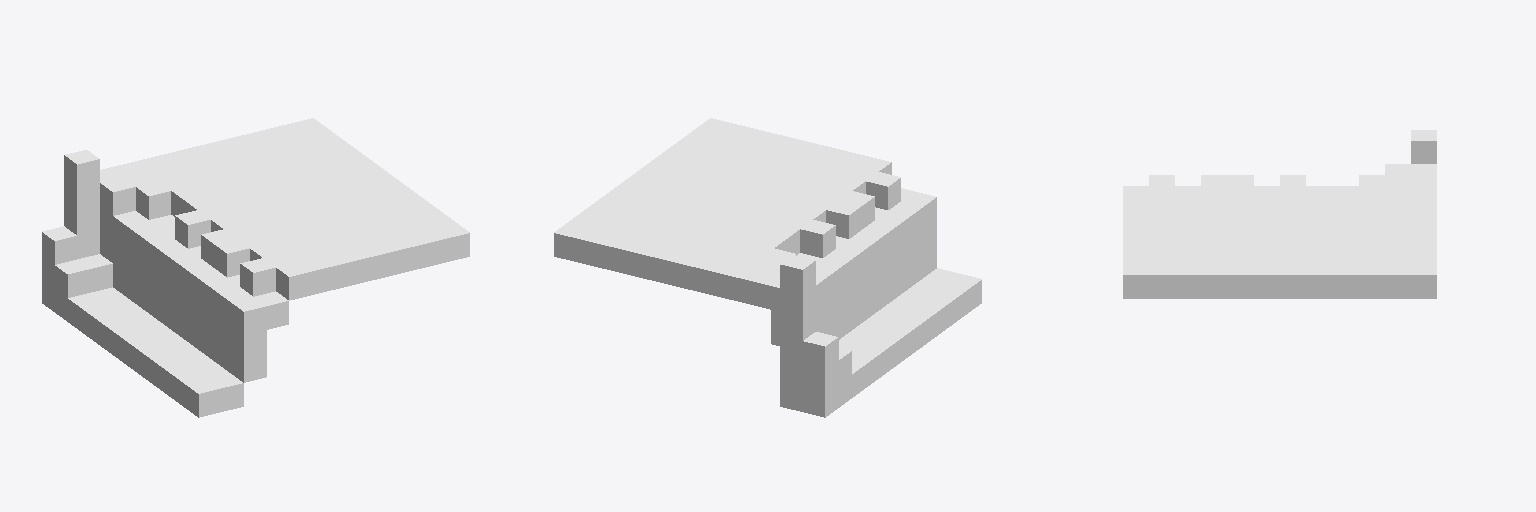
Rendered from map1.68.vox.obj.
3 views of the same model, side by side, from view 1: azimuth 30°, elevation 25°; view 2: azimuth 150°, elevation 25°; view 3: azimuth 270°, elevation 25° (orthographic).
Visible parts, largest first — view 1: object 1; view 2: object 1; view 3: object 1.
Part boxes in pixels (left/top/right/bottom): object 1: left=42, top=118, right=469, bottom=417; object 1: left=554, top=118, right=981, bottom=417; object 1: left=1123, top=130, right=1436, bottom=298.
Size of the model in its own units: 24 by 12 by 24.